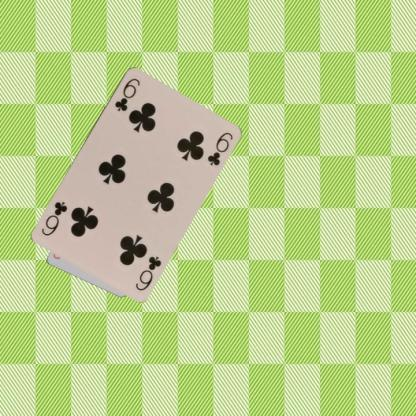6c: (132, 254, 163, 291), (112, 75, 141, 113)
